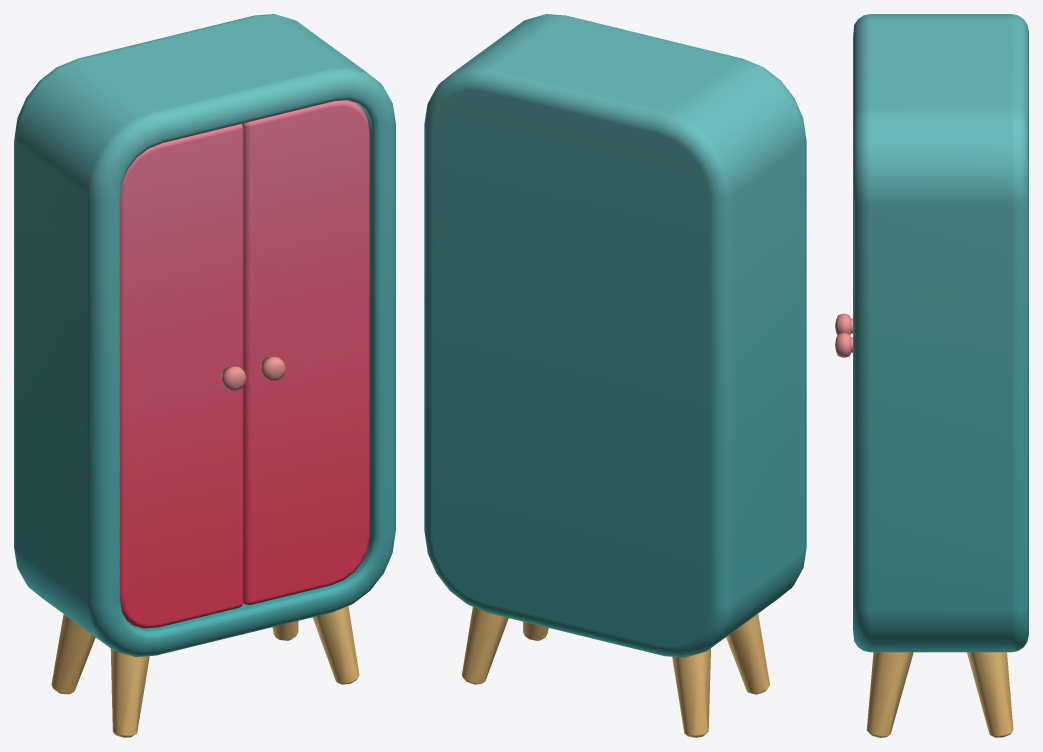
File: Closet_02.glb
3 renders of one model, left to right at view 1: azimuth 30°, elevation 25°; view 2: azimuth 150°, elevation 25°; view 3: azimuth 270°, elevation 25°, orthographic.
Parts seen in each view (by area): view 1: Closet_02 (×2); view 2: Closet_02; view 3: Closet_02 (×2).
Part boxes in pixels (left/top/right/bottom): Closet_02 (×2): left=14, top=14, right=395, bottom=737; Closet_02: left=424, top=14, right=806, bottom=737; Closet_02 (×2): left=835, top=14, right=1028, bottom=737.
Bounding box in the file's own units: 0.8001 × 1.55 × 0.4404.
1 material, 1 textured.
